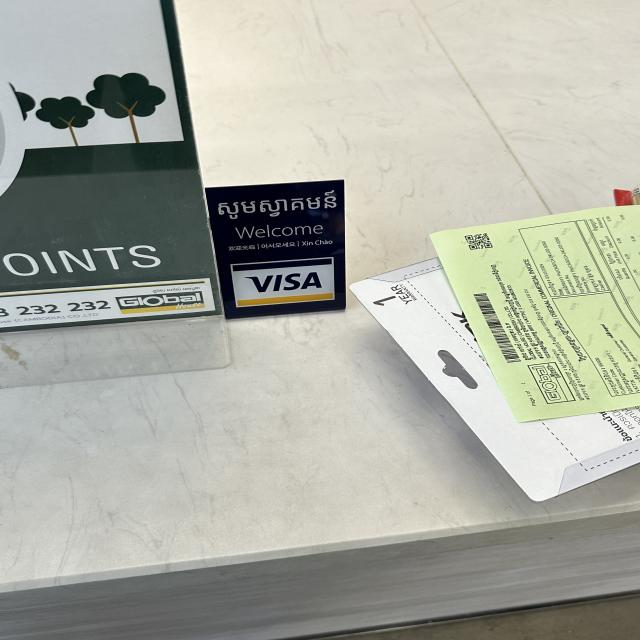Yolov11kh: (211, 190, 338, 222)
